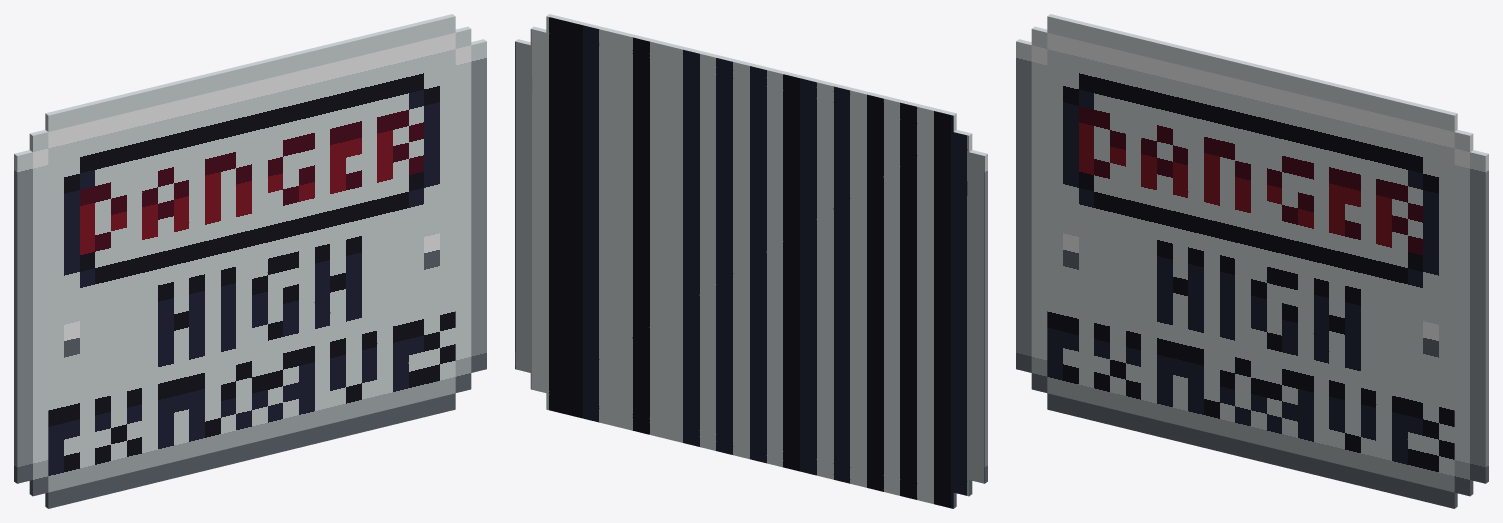
Rendered from warning_sign_explosives2.glb.
3 views of the same model, side by side, from view 1: azimuth 30°, elevation 25°; view 2: azimuth 150°, elevation 25°; view 3: azimuth 330°, elevation 25° (orthographic).
Parts seen in each view (by area): view 1: Continuous_Stepped_Sign_Plate; view 2: Continuous_Stepped_Sign_Plate; view 3: Continuous_Stepped_Sign_Plate.
Part boxes in pixels (box(x1,y1,x2,y2)): Continuous_Stepped_Sign_Plate: box(14, 14, 486, 508); Continuous_Stepped_Sign_Plate: box(515, 14, 987, 508); Continuous_Stepped_Sign_Plate: box(1016, 14, 1488, 508).
Size of the model in its own units: 0.8438 by 0.675 by 0.00984.
1 material, 1 textured.
